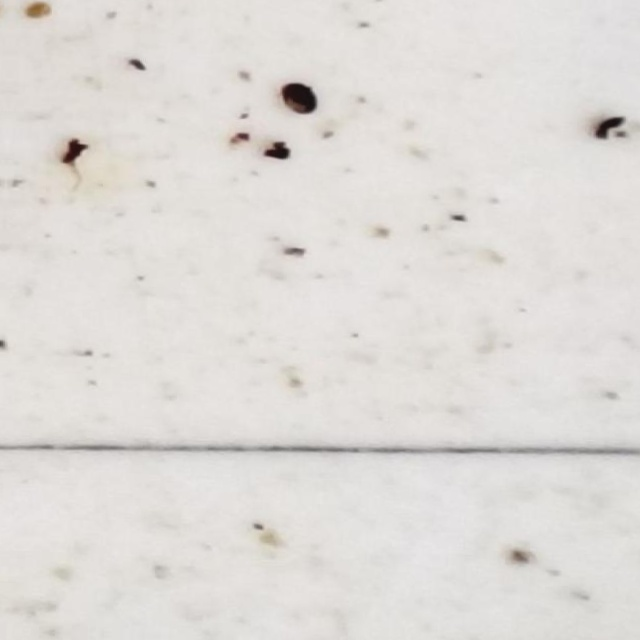varroa: (281, 78, 321, 117)
